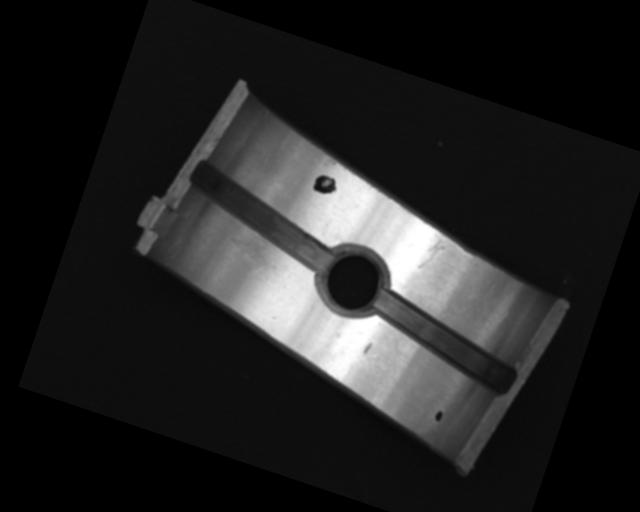blot: (310, 172, 341, 198), (432, 408, 445, 424)
bruise: (362, 340, 373, 356)
gap: (175, 160, 346, 276), (361, 289, 527, 396)
hole: (308, 238, 397, 324)
nick: (416, 229, 449, 275)
scratch: (216, 228, 286, 282)
